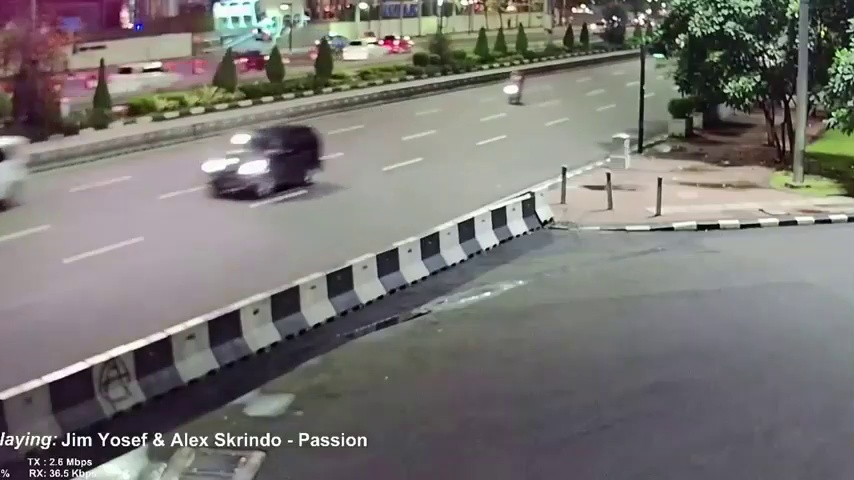car: (212, 124, 323, 199), (111, 63, 182, 100), (342, 38, 386, 63)
motorbike: (505, 69, 524, 109)
